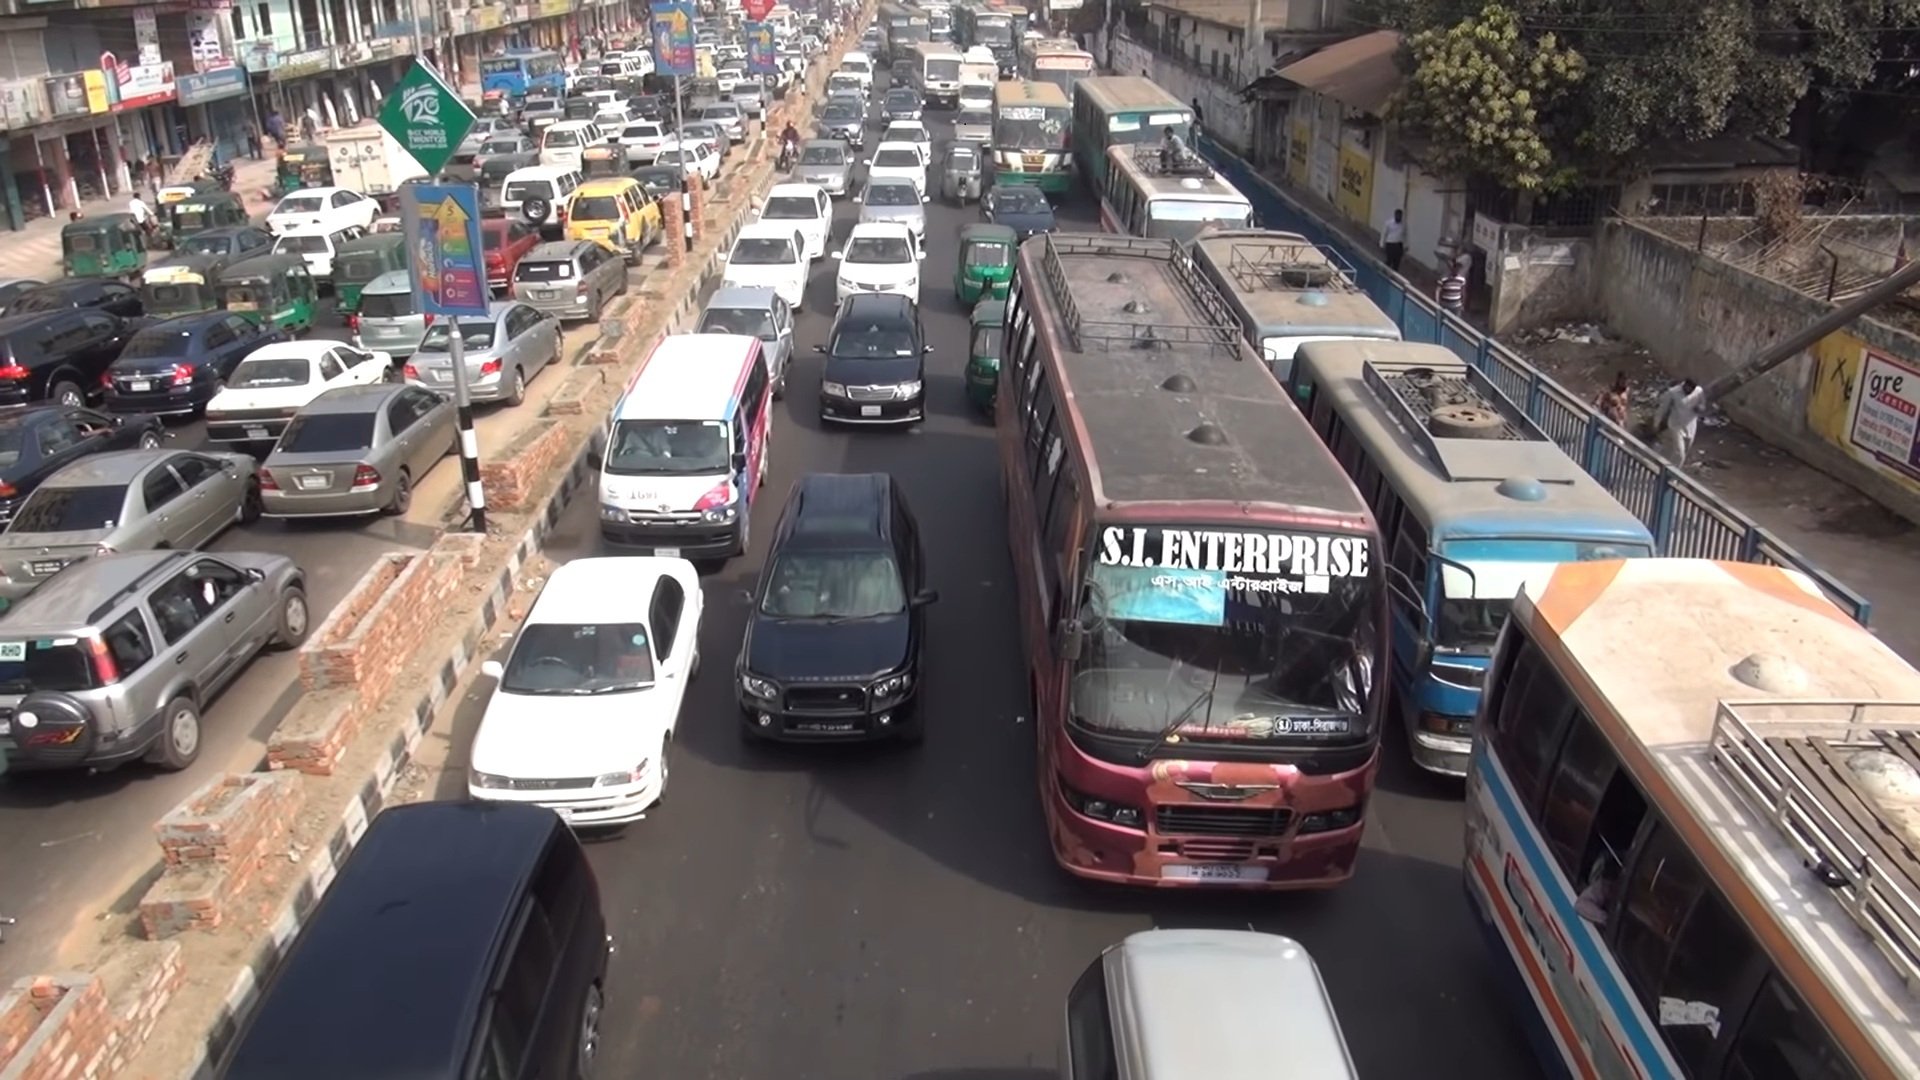bus: (1000, 233, 1436, 889), (1453, 551, 1920, 1076), (1288, 339, 1662, 789), (1195, 225, 1400, 376), (1098, 141, 1259, 241), (1076, 76, 1205, 196), (992, 74, 1072, 182), (961, 5, 1033, 57), (477, 51, 563, 94)
car: (214, 803, 617, 1080), (1, 541, 307, 771), (467, 553, 711, 829), (735, 472, 934, 753), (1058, 926, 1369, 1080), (585, 332, 781, 564), (1, 448, 266, 593), (249, 382, 469, 526), (200, 343, 400, 451), (102, 309, 297, 418), (1, 405, 170, 509), (407, 299, 572, 404), (811, 293, 934, 429), (1, 309, 136, 407), (695, 289, 799, 400), (512, 239, 634, 322), (715, 222, 814, 318), (560, 179, 665, 262), (832, 220, 932, 303), (272, 214, 375, 287), (349, 266, 425, 367), (753, 185, 832, 258), (498, 167, 585, 233), (858, 174, 934, 245), (980, 182, 1059, 245), (265, 187, 380, 229), (480, 214, 542, 289), (789, 138, 857, 199), (862, 138, 932, 195), (178, 222, 280, 258), (878, 117, 940, 167), (538, 117, 607, 162), (473, 132, 535, 170), (661, 138, 724, 174), (818, 98, 874, 137), (617, 120, 678, 153), (884, 84, 932, 120)
cng: (215, 247, 311, 334), (61, 216, 156, 278), (953, 225, 1017, 309), (165, 189, 247, 245), (971, 295, 1005, 418), (942, 137, 980, 207), (272, 145, 324, 191)
